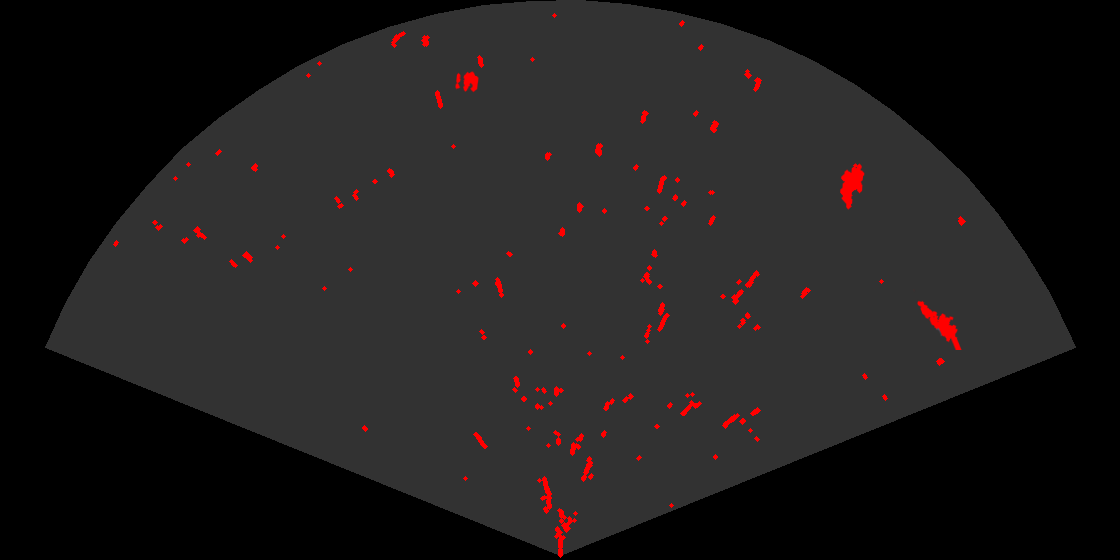AUV: (839, 162, 866, 211)
ball: (454, 70, 480, 94)
frogman: (913, 289, 963, 350)
